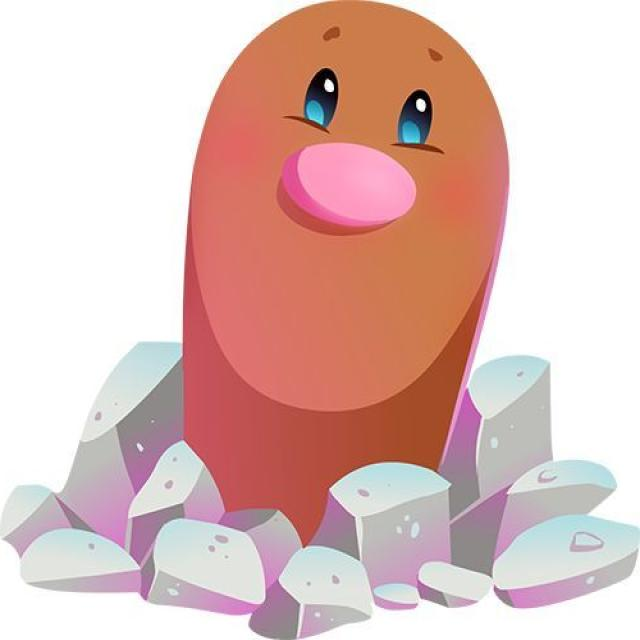Diglett: (178, 0, 506, 506)
